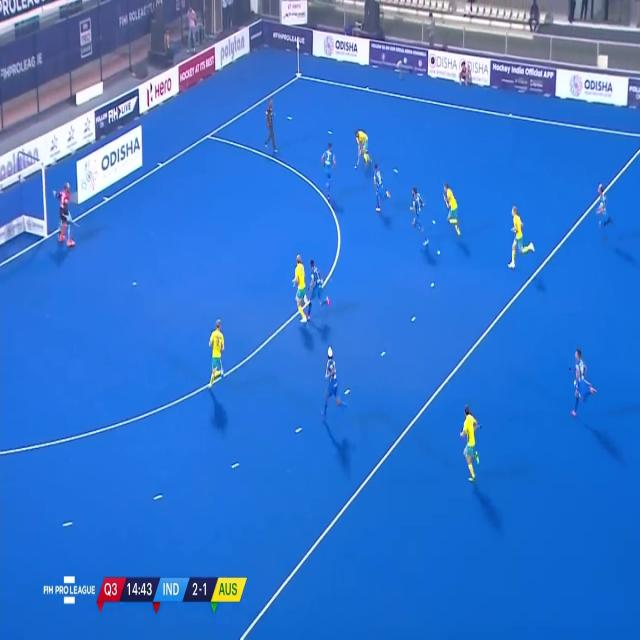ball: (354, 158, 358, 172)
